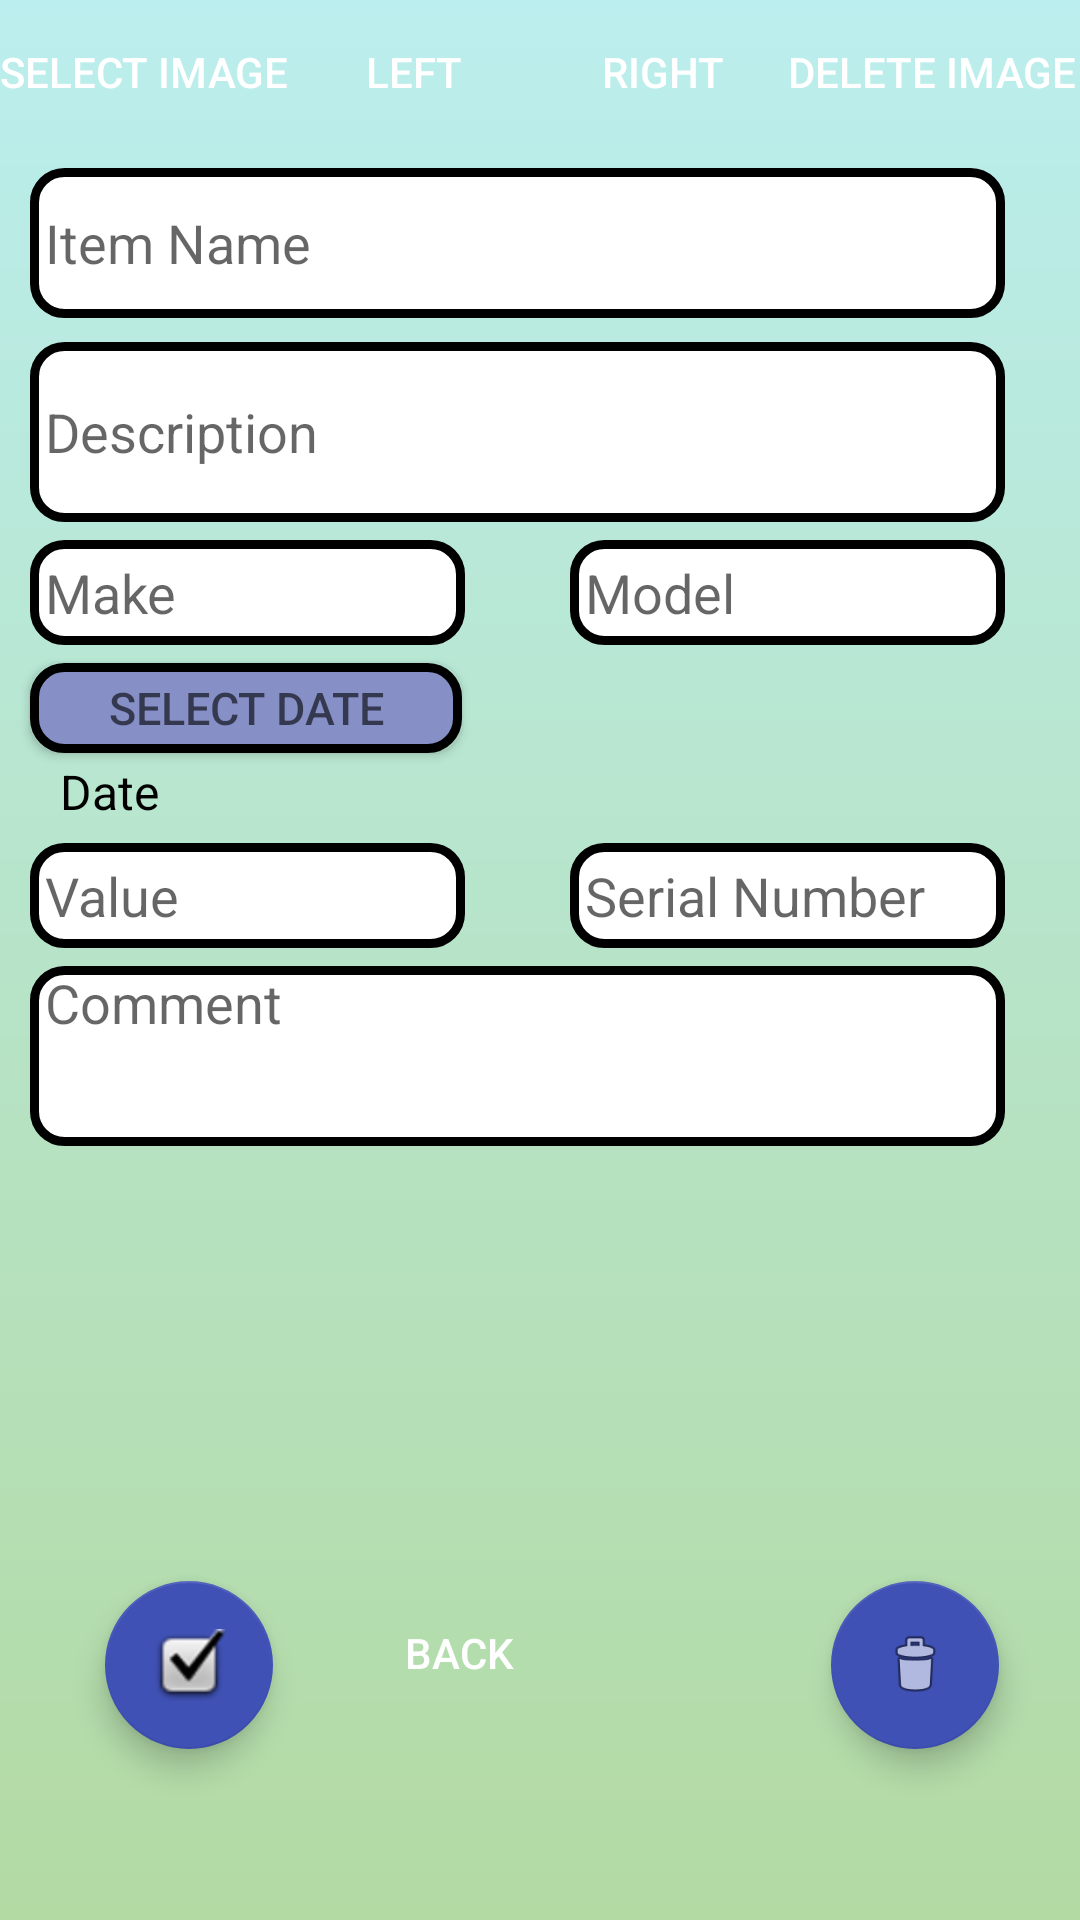

Where icons sit on this 1080*1920 app screen, as (x1, y1, x2, y2):
delete: (831, 1581, 999, 1749)
